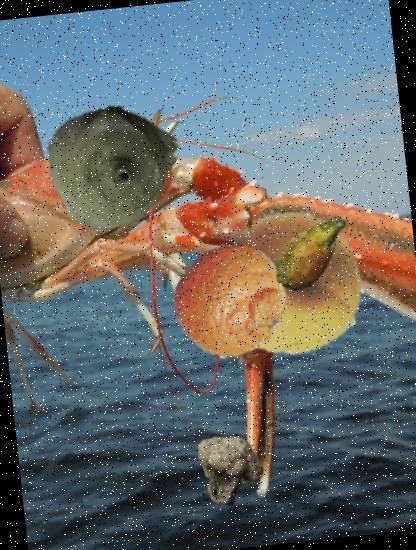Cactus: (262, 200, 364, 302)
Cauliflower: (189, 430, 270, 511)
Kohlrabi: (39, 93, 190, 245)
Mandarine: (166, 237, 292, 364)
Peach: (214, 207, 372, 365)
